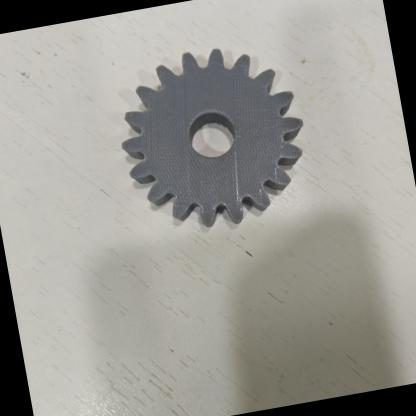gear: (96, 25, 332, 257)
